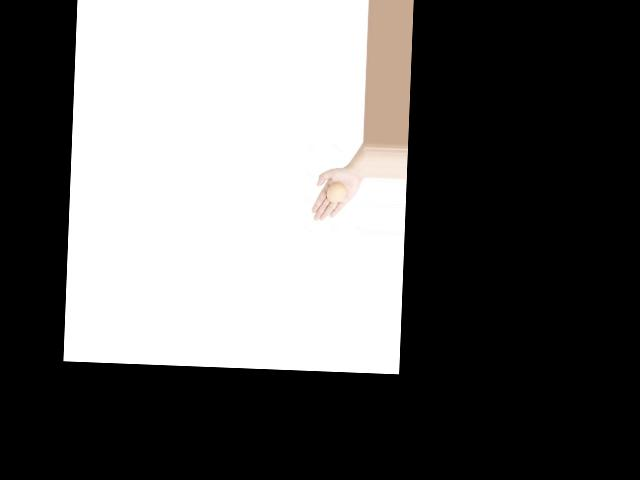egg: (327, 181, 346, 202)
